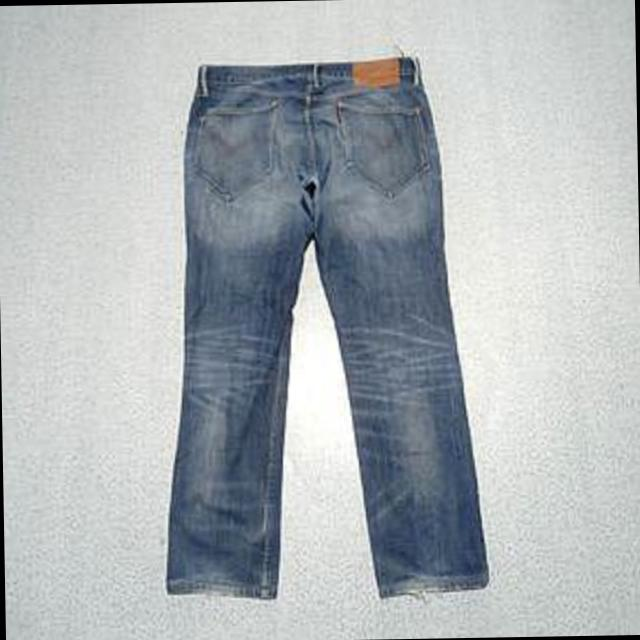TROUSER: (152, 43, 502, 610)
